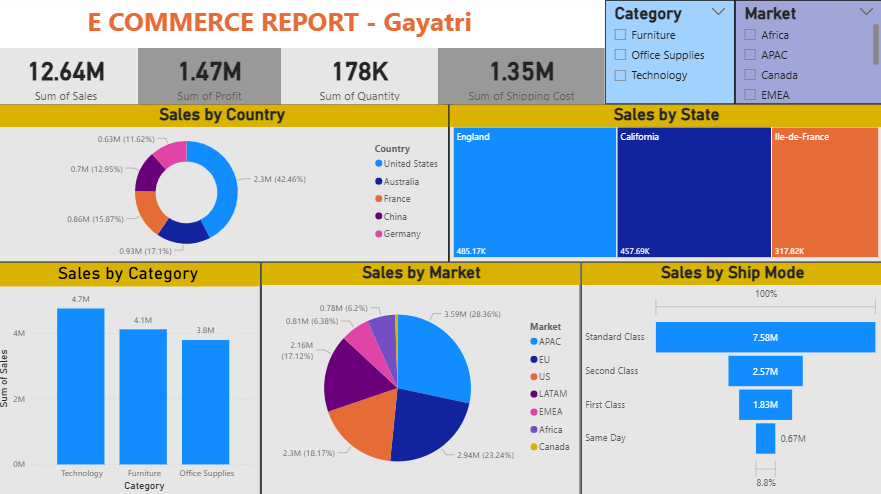

The dashboard page shown, as its layout file describes it:
{"tool":"powerbi","page":{"name":"Page 1","canvas":[1280,720],"ordinal":0},"visuals":[{"type":"columnChart","title":"Sales by Category","fields":{"Y":["Orders.Sales"],"Category":["Orders.Category"]},"box":[0,384.5,384.5,335.5],"z":0},{"type":"funnel","title":"Sales by Ship Mode","fields":{"Y":["Orders.Sales"],"Category":["Orders.Ship Mode"]},"box":[845.3,384.5,434.9,335.5],"z":1000},{"type":"pieChart","title":"Sales by Market","fields":{"Y":["Orders.Sales"],"Category":["Orders.Market"]},"box":[384.7,384.7,460.3,336],"z":2000},{"type":"donutChart","title":"Sales by Country","fields":{"Category":["Orders.Country"],"Y":["Orders.Sales"]},"box":[0,157,655.2,227.5],"z":3000},{"type":"treemap","title":"Sales by State","fields":{"Values":["Orders.Sales"],"Group":["Orders.State"]},"box":[655.2,157,625,227.5],"z":4000},{"type":"card","fields":{"Values":["Orders.Sales"]},"box":[0,76.3,207.4,80.6],"z":5000},{"type":"card","fields":{"Values":["Orders.Profit"]},"box":[207.4,76.3,205.9,80.6],"z":6000},{"type":"card","fields":{"Values":["Orders.Quantity"]},"box":[413.3,76.3,226.1,80.6],"z":7000},{"type":"card","fields":{"Values":["Orders.Shipping Cost"]},"box":[639.4,76.3,240.5,80.6],"z":8000},{"type":"slicer","fields":{"Values":["Orders.Category"]},"box":[879.8,7.2,187.2,149.8],"z":9000},{"type":"slicer","fields":{"Values":["Orders.Market"]},"box":[1067,7.2,213.1,149.8],"z":10000},{"type":"textbox","box":[0,7.2,822.2,69.1],"z":11002}]}

Visuals, with their boxes in screenshot pixels (x1, y1, x2, y2), scaled from the page's 1280x720 canvas onto the 881x494 screenshot:
"Sales by Category" columnChart: 0 264 265 493
"Sales by Ship Mode" funnel: 582 264 880 493
"Sales by Market" pieChart: 265 264 582 493
"Sales by Country" donutChart: 0 108 451 264
"Sales by State" treemap: 451 108 880 264
card - Orders.Sales: 0 52 143 108
card - Orders.Profit: 143 52 284 108
card - Orders.Quantity: 284 52 440 108
card - Orders.Shipping Cost: 440 52 606 108
slicer - Orders.Category: 606 5 734 108
slicer - Orders.Market: 734 5 880 108
textbox: 0 5 566 52
